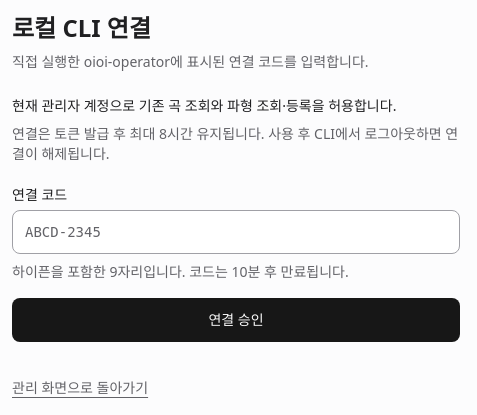
Test: 중복 제출을 막고 이탈 시 요청을 취소한다
The width and height of the screenshot is (477, 415).
Type "abcd-2345" into the field labelled "연결 코드".
click(236, 232); type("abcd-2345")  # box top-left (12, 210), bottom-right (460, 254)
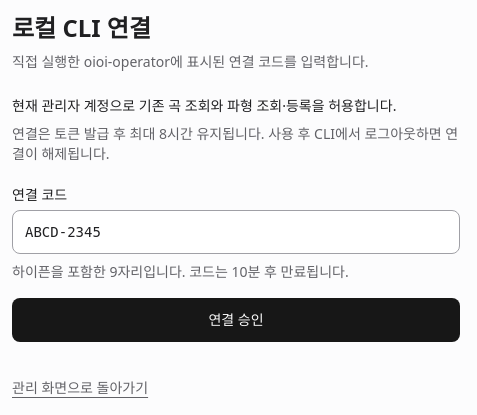
Click the button "연결 승인".
click(236, 320)  # box top-left (12, 298), bottom-right (460, 342)
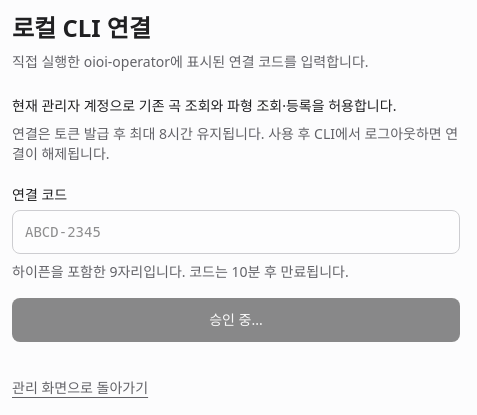
Result: the button "승인 중..." is disabled at top-left (12, 298), bottom-right (460, 342)
